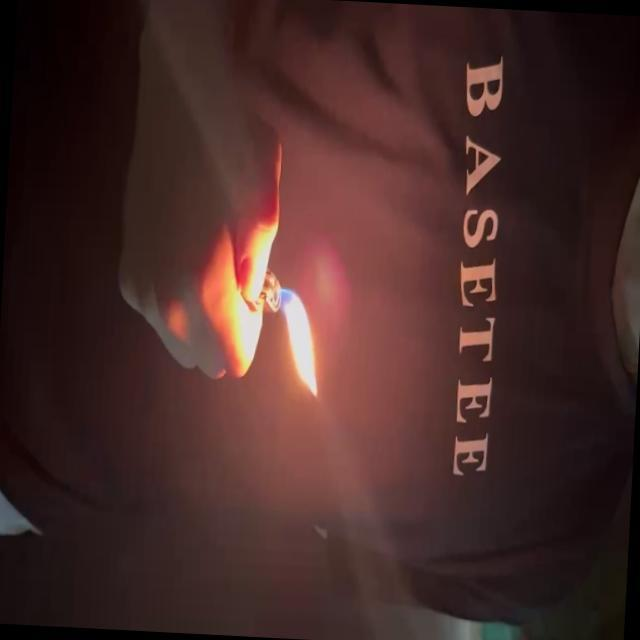Fire: (270, 279, 326, 401)
